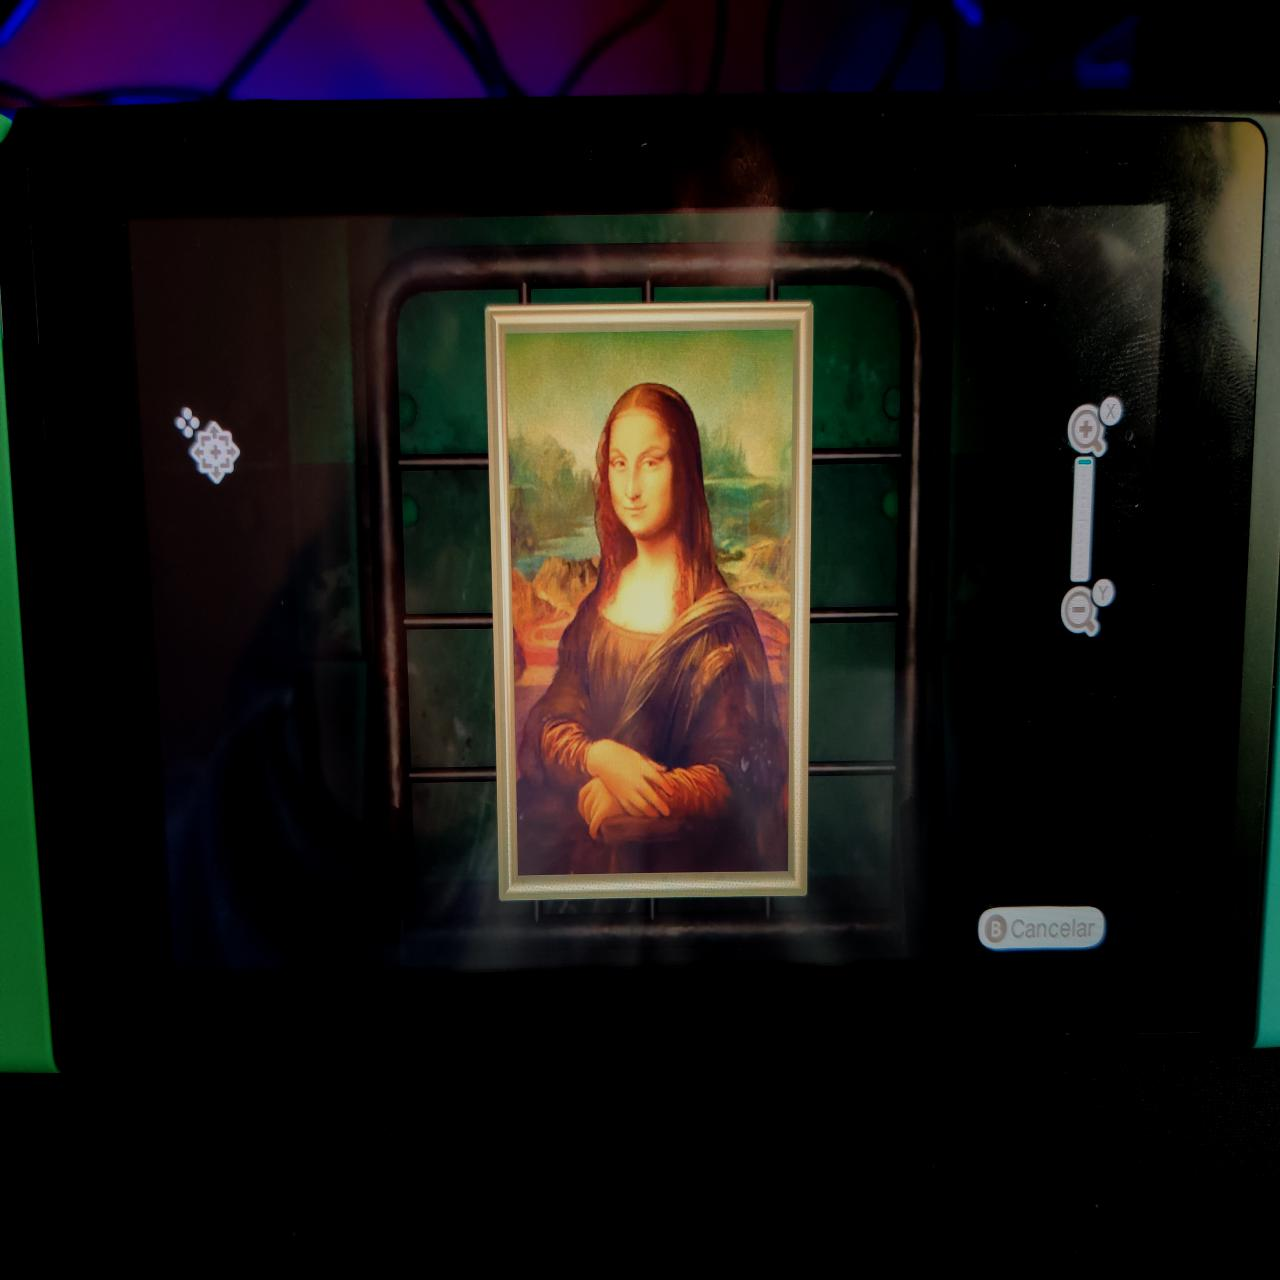MonaLisaFake: (509, 334, 794, 873)
